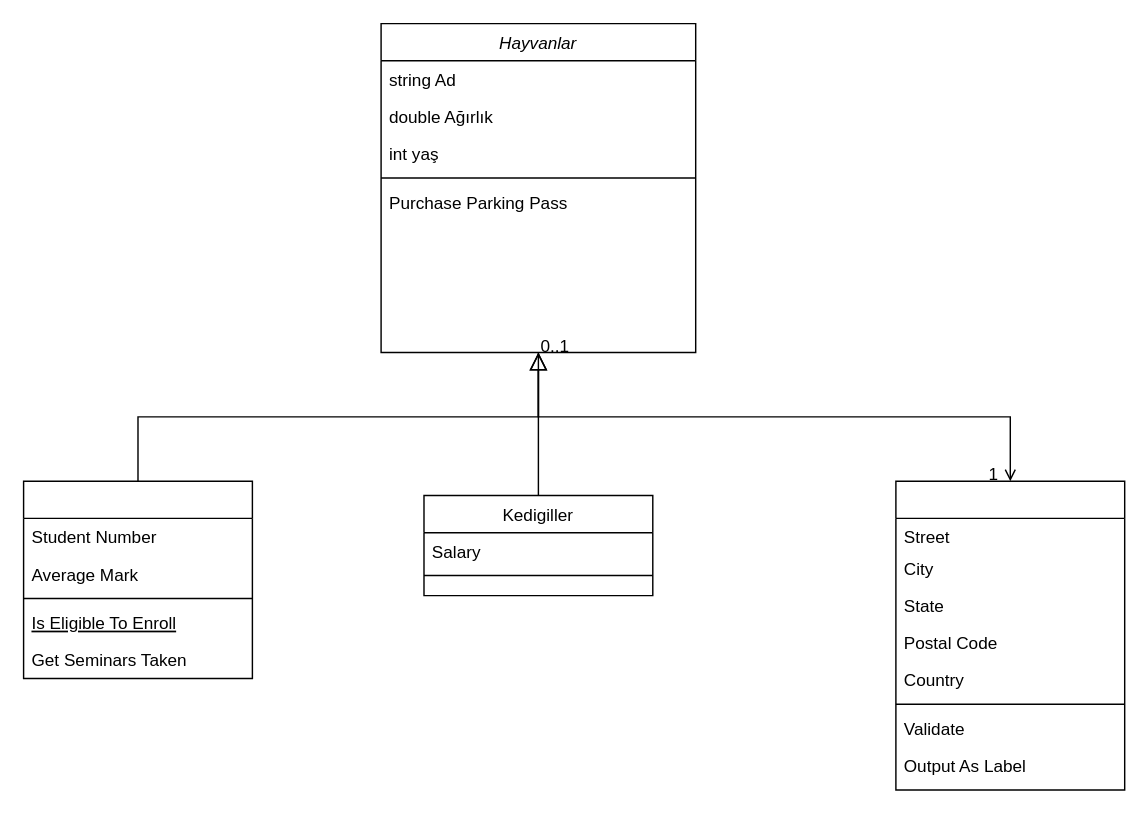
Some shapes in this 1148 by 814 pixel diagram are drawn without their labels. Each missing label, with the box of its shape:
Address: (894, 480, 1125, 790)
Atlar: (22, 480, 252, 679)
